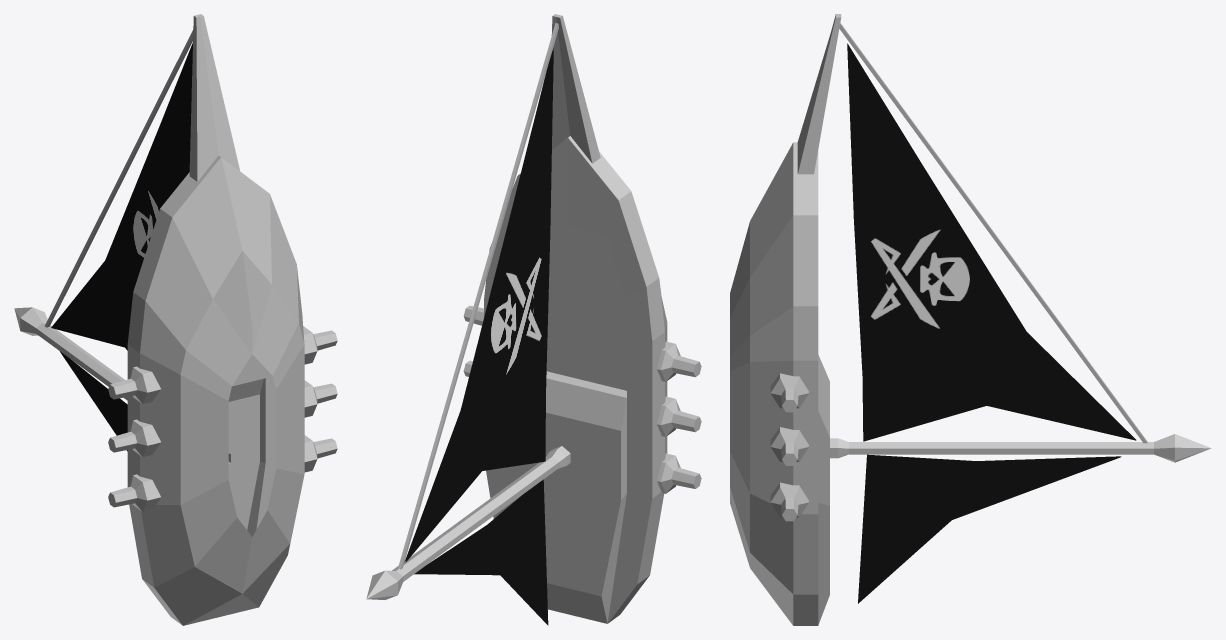
Rendered from pirate_speed_my_0.fbx.
3 renders of one model, left to right at view 1: azimuth 30°, elevation 25°; view 2: azimuth 150°, elevation 25°; view 3: azimuth 270°, elevation 25°, orthographic. The views are drawn at different scales.
Visible parts, largest first — view 1: Cube.227; view 2: Cube.227; view 3: Cube.227.
Part boxes in pixels (x1,y1,x2,y2): Cube.227: [14, 14, 337, 625]; Cube.227: [366, 14, 701, 625]; Cube.227: [730, 14, 1211, 625].
Size of the model in its own units: 206 by 518 by 382.
